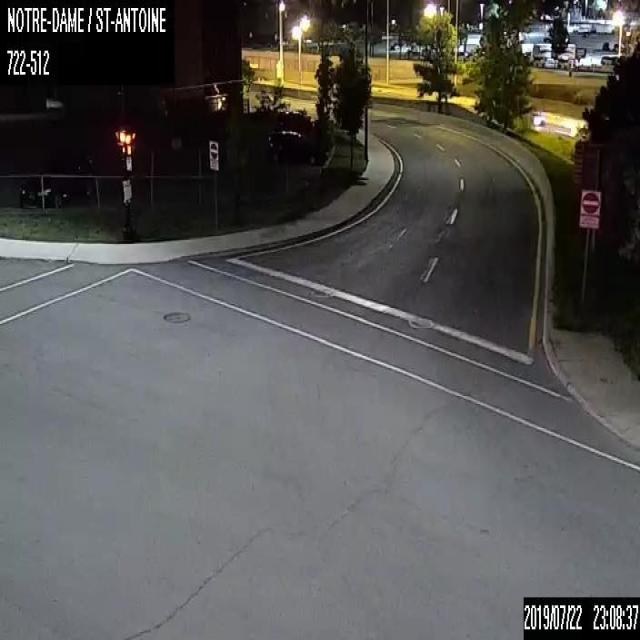vehicle: (18, 154, 100, 207), (267, 130, 327, 165), (530, 110, 544, 126)
